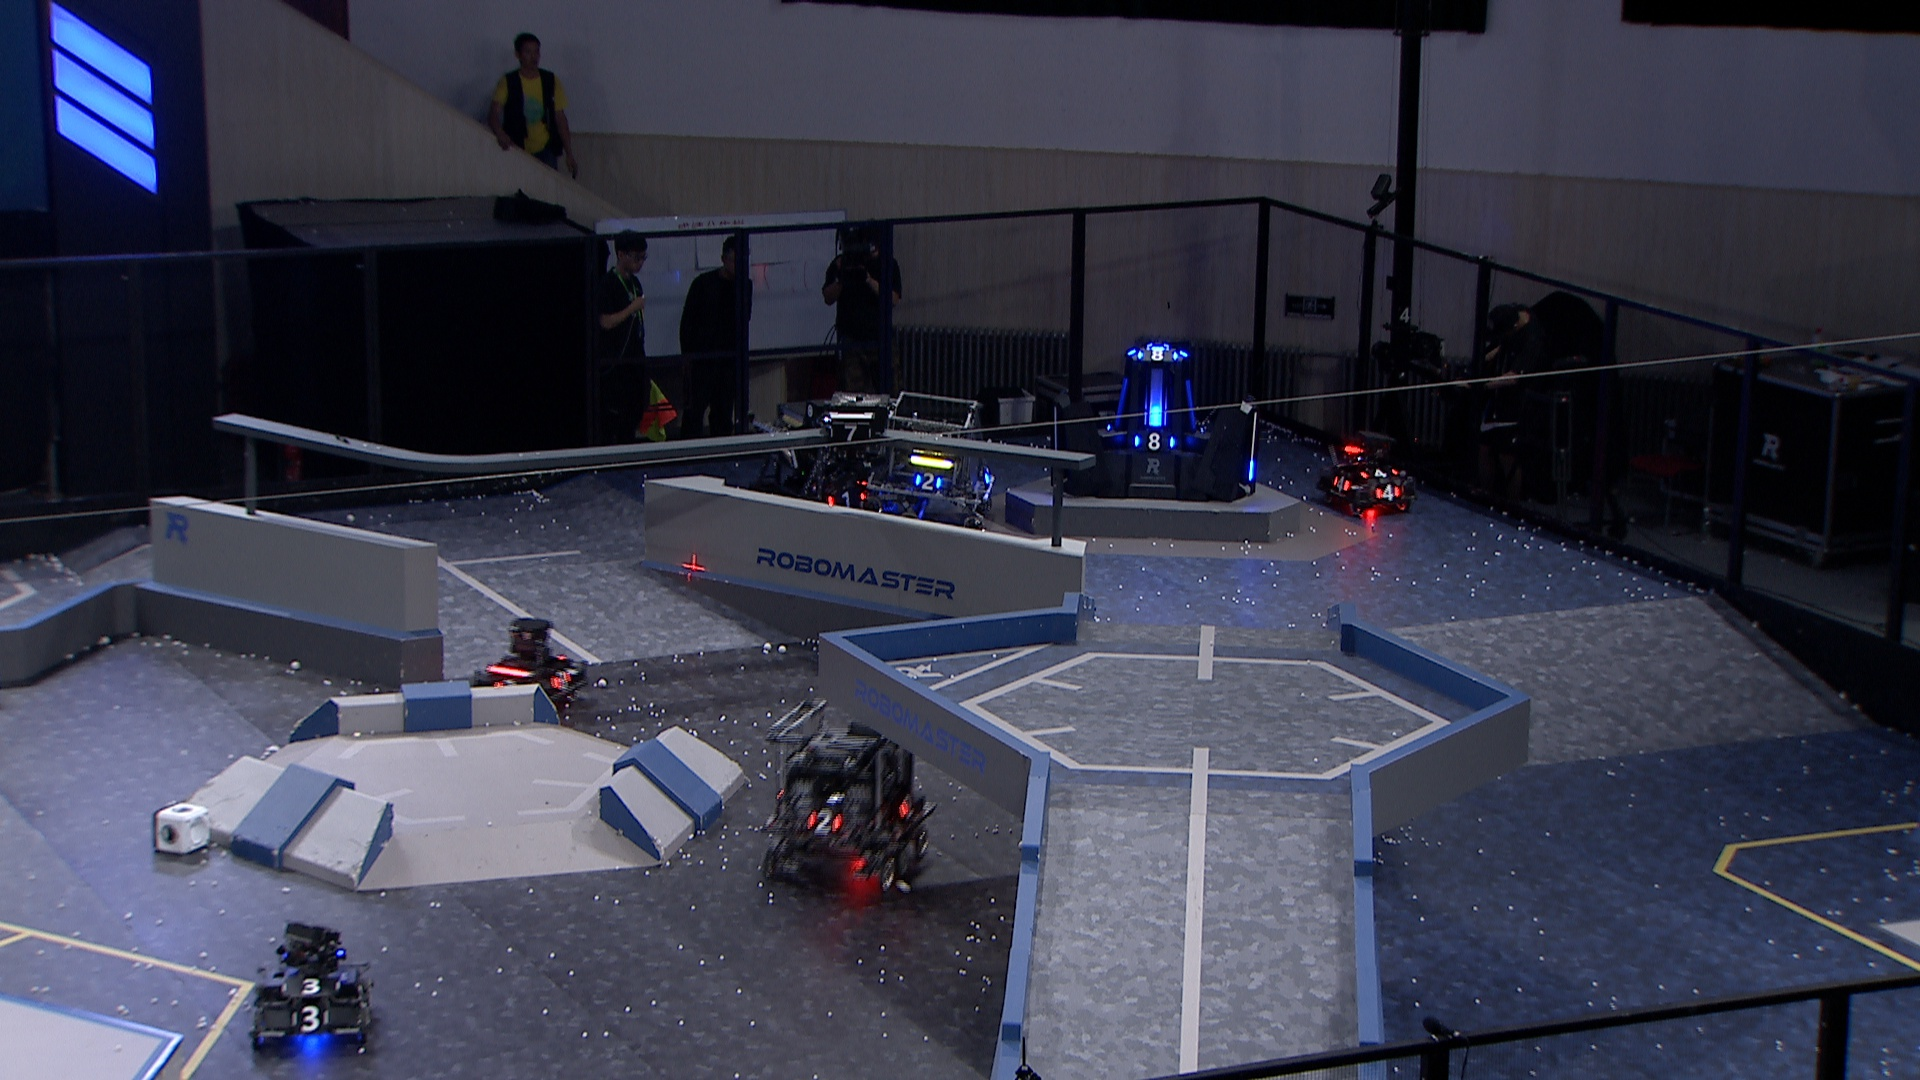armor: (281, 975, 344, 997), (1110, 375, 1134, 433), (289, 1002, 330, 1034), (804, 804, 845, 833), (823, 489, 868, 512), (825, 423, 873, 444), (1131, 431, 1178, 452), (1134, 345, 1182, 365), (893, 790, 916, 823), (1185, 376, 1199, 433), (1360, 463, 1399, 481), (911, 469, 944, 491), (352, 981, 373, 1011), (551, 669, 574, 694), (1147, 404, 1167, 429), (1375, 483, 1400, 501), (1332, 473, 1353, 495), (1245, 455, 1258, 483)
base: (1048, 342, 1265, 505)
car: (756, 695, 942, 893), (858, 386, 996, 533), (244, 916, 377, 1058), (737, 396, 877, 524), (465, 612, 595, 713), (1313, 427, 1415, 514)
watcher: (818, 389, 893, 487)
